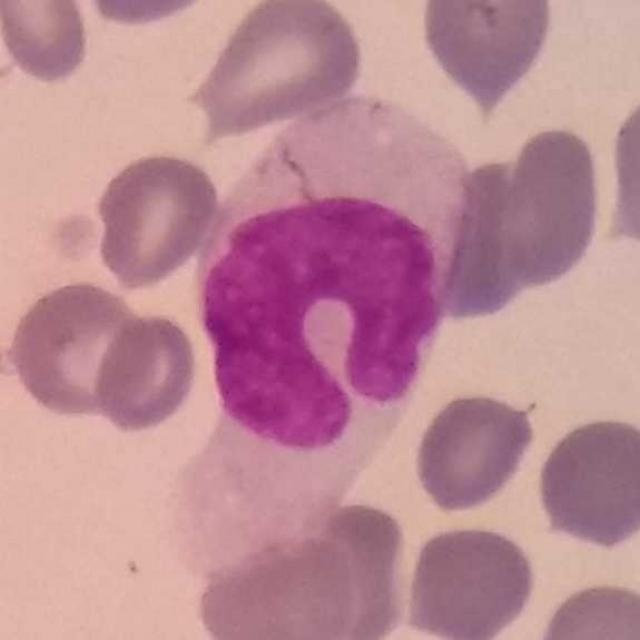mono: (181, 86, 470, 584)
